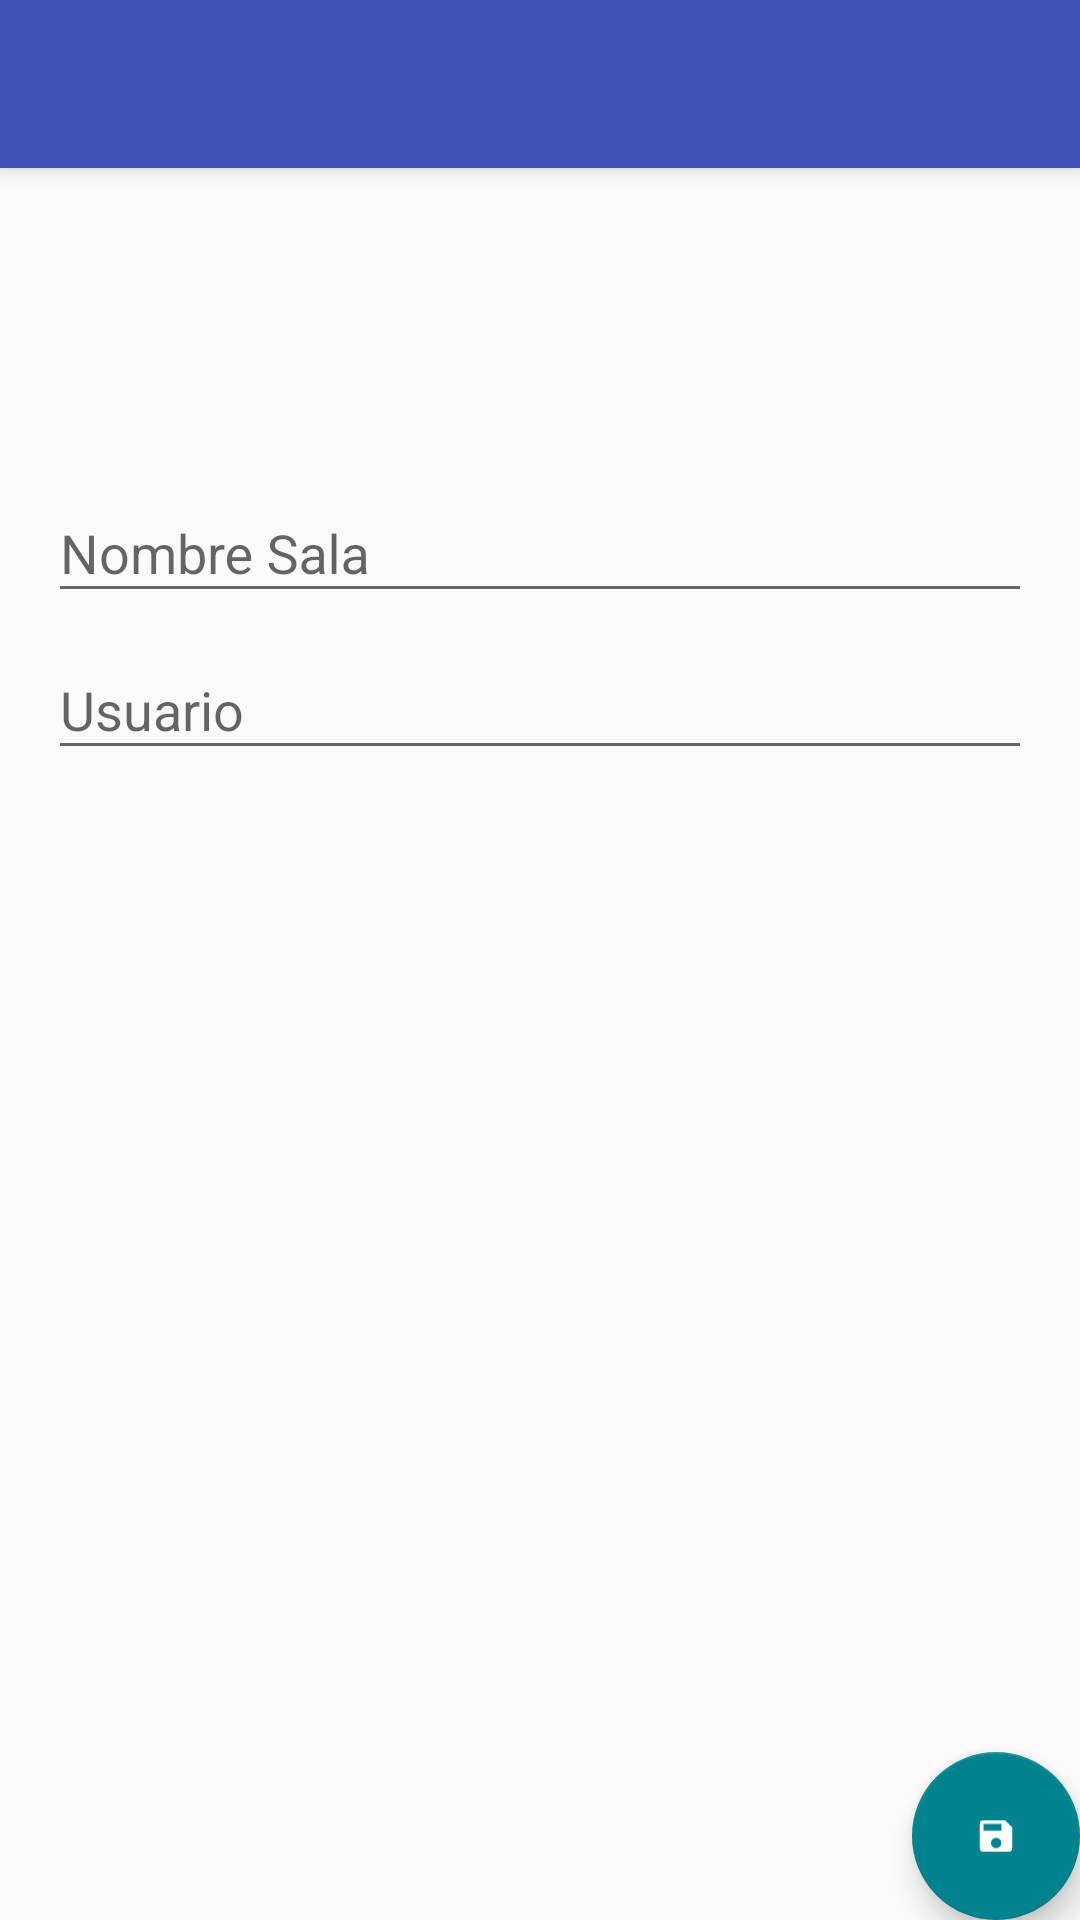

Named icons in this screenshot (1080*1920) and their bounding boxes, [x1=x1, y1=y1, x2=x2, y2=y2]:
guardar: [x1=912, y1=1752, x2=1080, y2=1920]
